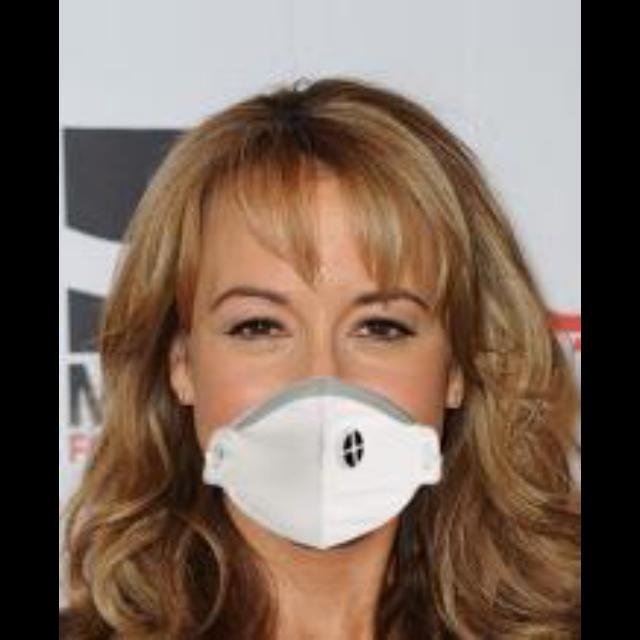suspicion: (102, 137, 500, 548)
